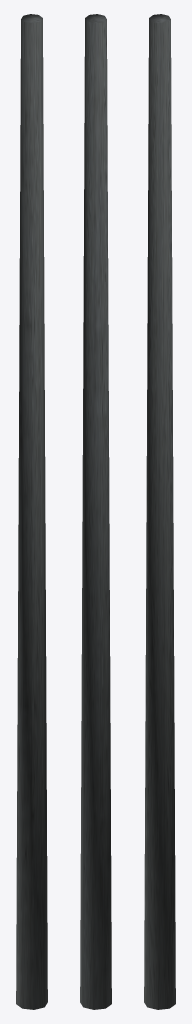
File: pole_concrete_a_lod_2.glb
3 renders of one model, left to right at view 1: azimuth 30°, elevation 25°; view 2: azimuth 150°, elevation 25°; view 3: azimuth 330°, elevation 25°, orthographic.
Parts seen in each view (by area): view 1: pole_concrete_a_lod_2; view 2: pole_concrete_a_lod_2; view 3: pole_concrete_a_lod_2.
Boxes of the visible parts, box(x1,y1,x2,y2) form: pole_concrete_a_lod_2: box(16, 14, 47, 1009); pole_concrete_a_lod_2: box(80, 14, 111, 1009); pole_concrete_a_lod_2: box(144, 14, 175, 1009).
Size of the model in its own units: 0.2785 by 10.2 by 0.2785.
Materials: 1 (1 with a texture image).
